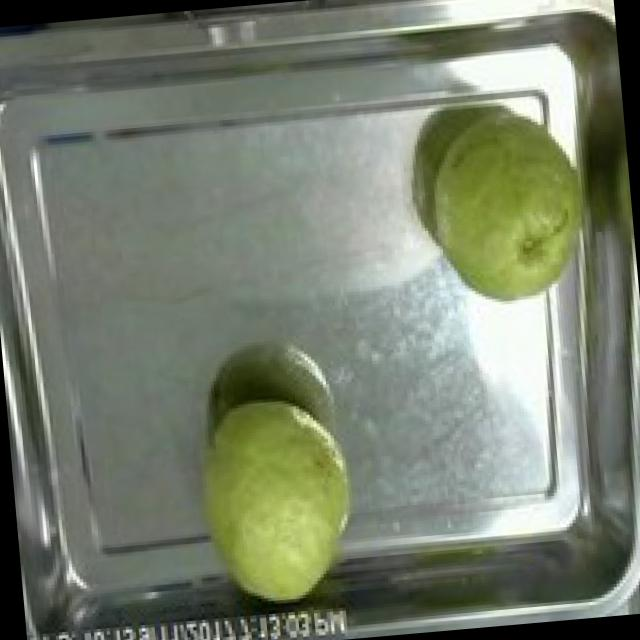Fruit: (399, 74, 608, 324), (172, 381, 377, 623)
